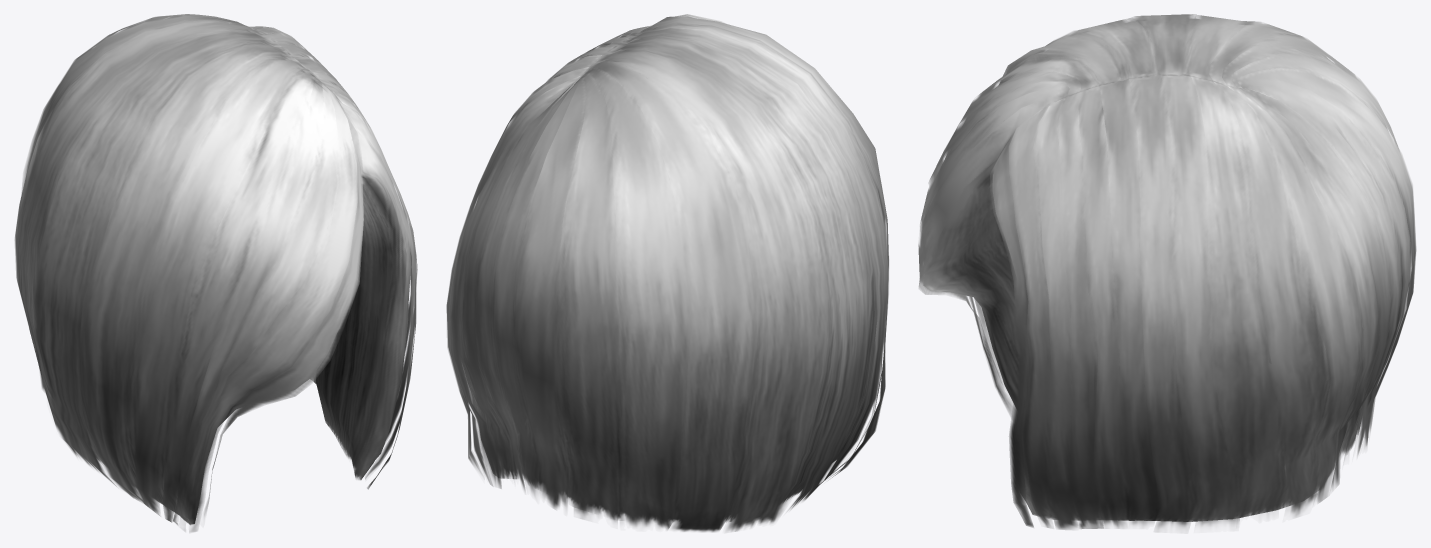
The model's file is hair_bob02.gltf.
3 views of the same model, side by side, from view 1: azimuth 30°, elevation 25°; view 2: azimuth 150°, elevation 25°; view 3: azimuth 270°, elevation 25° (orthographic). The views are drawn at different scales.
Parts seen in each view (by area): view 1: hair_bob02; view 2: hair_bob02; view 3: hair_bob02.
Part boxes in pixels (<box>): hair_bob02: <box>14,14,417,532</box>; hair_bob02: <box>446,14,889,531</box>; hair_bob02: <box>918,14,1416,529</box>.
Size of the model in its own units: 0.1916 by 0.2328 by 0.2283.
Materials: 1 (1 with a texture image).
